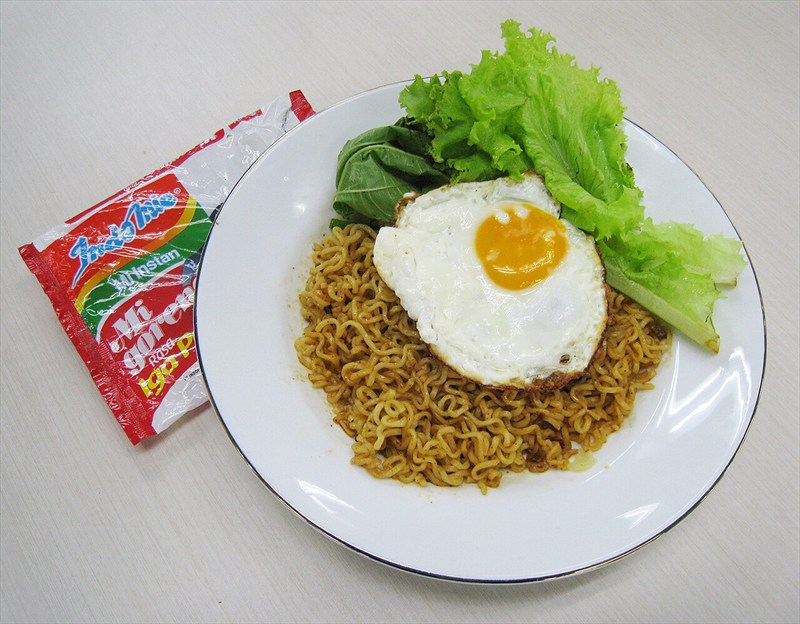Mie Goreng: (57, 77, 668, 485)
